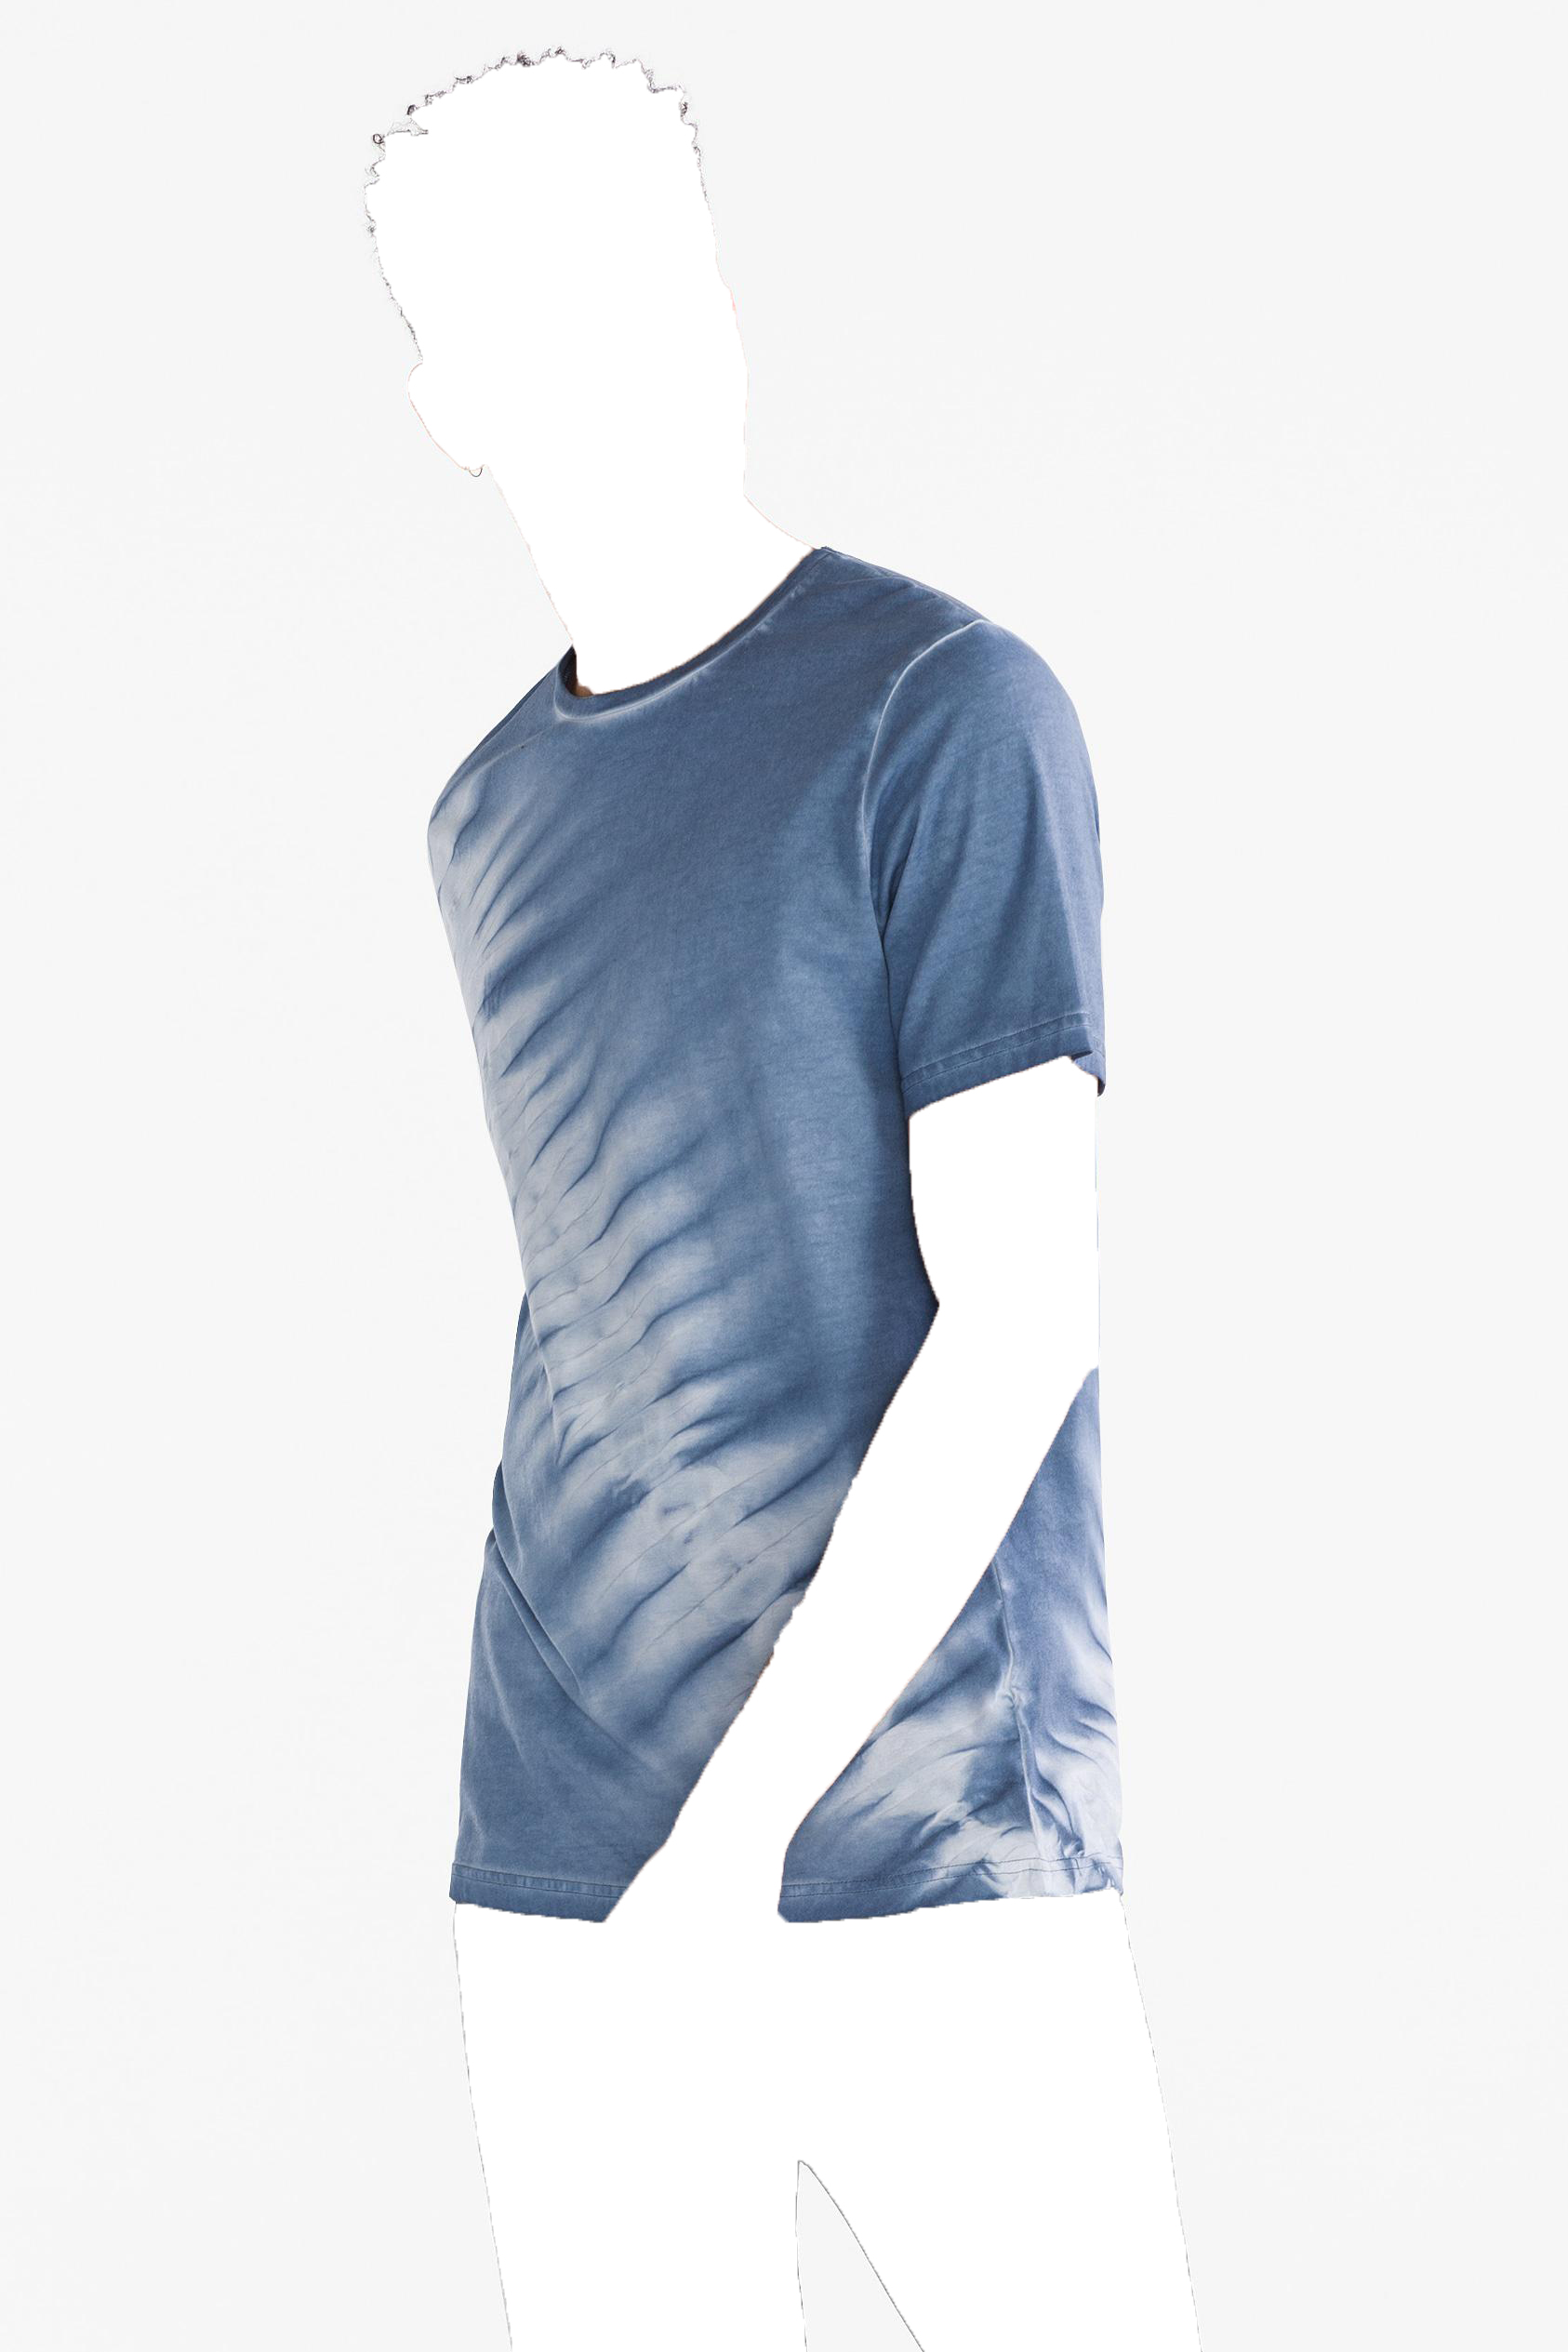teeshirt: (385, 556, 1190, 1991)
